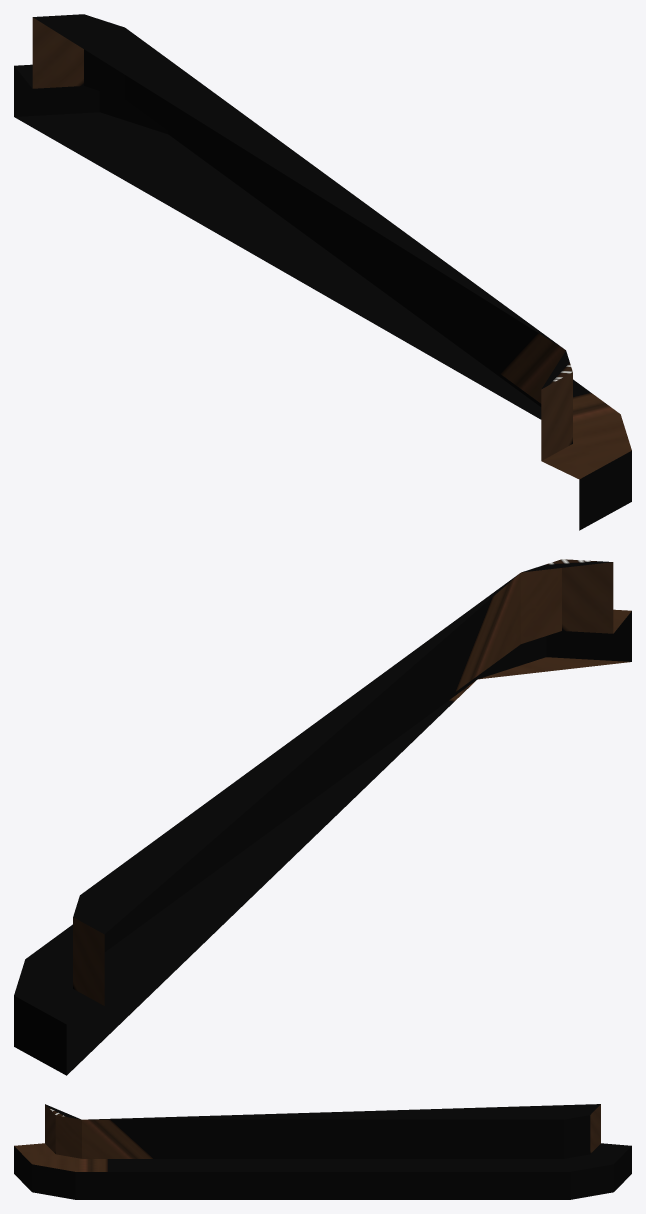
3 views of the same model, one above another, from view 1: azimuth 30°, elevation 25°; view 2: azimuth 150°, elevation 25°; view 3: azimuth 270°, elevation 25° (orthographic). The views are drawn at different scales.
Bounding box in the file's own units: 0.055 × 0.06 × 0.5.
